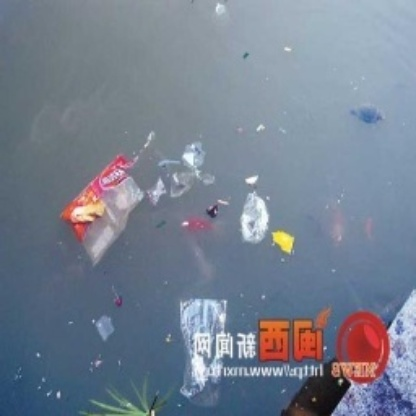branch: (239, 191, 271, 246)
plastic-bag: (60, 155, 149, 261)
